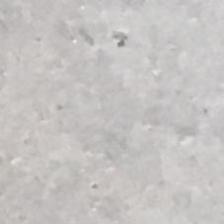Non_Crack: (21, 5, 224, 224)
